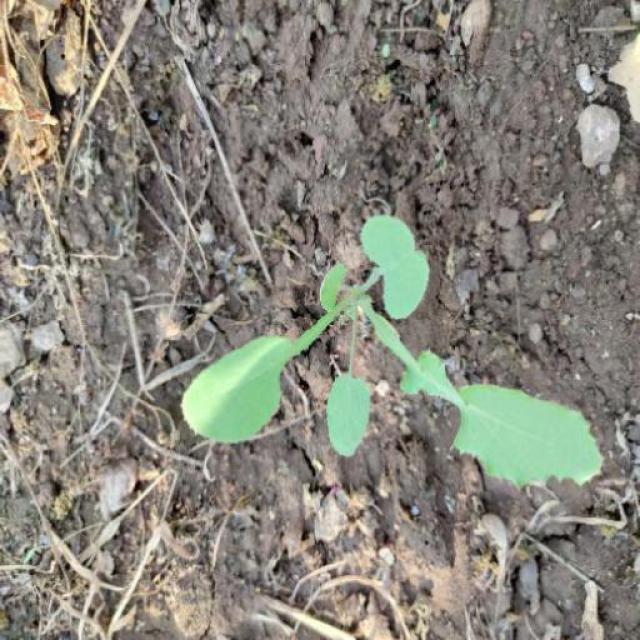crop: (168, 214, 602, 515)
